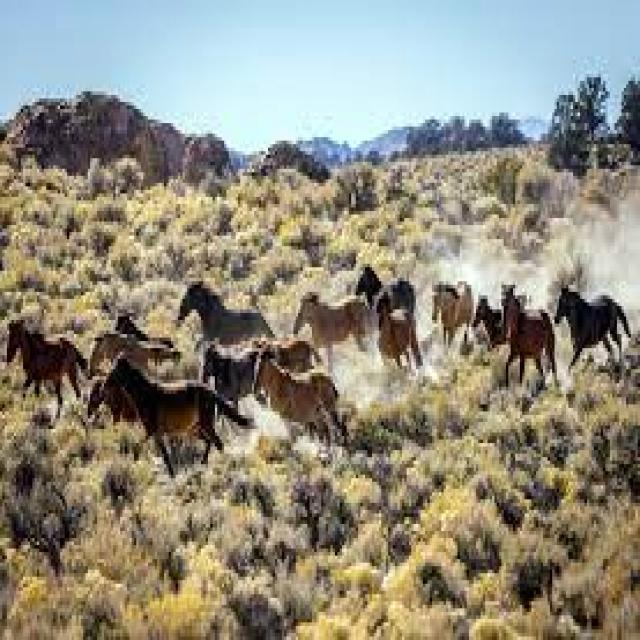horse: (100, 352, 248, 479), (252, 347, 350, 452), (5, 313, 86, 432), (495, 273, 563, 411), (549, 276, 633, 387), (177, 280, 280, 352), (290, 286, 376, 372), (84, 322, 175, 385), (193, 342, 270, 415), (370, 290, 426, 382), (426, 276, 481, 367), (350, 261, 418, 302)
